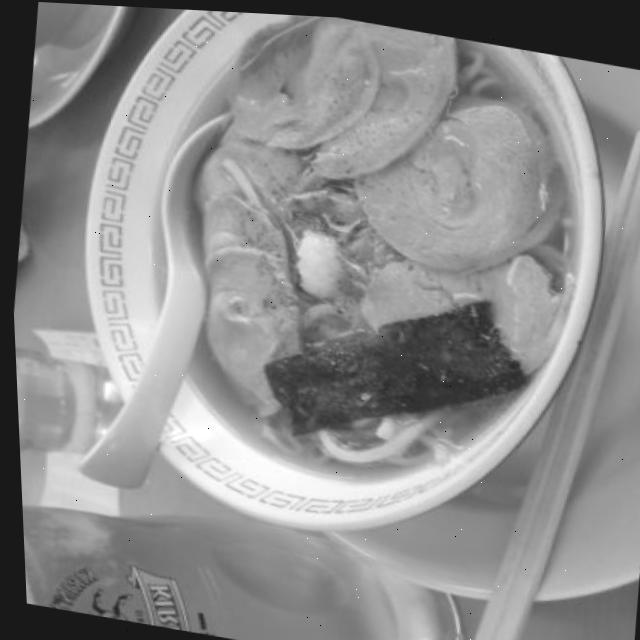面条主食: (61, 2, 606, 555)
